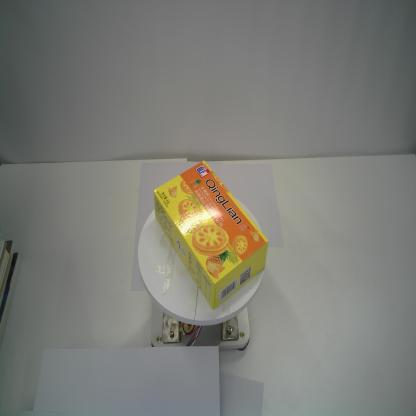Dessert: (153, 158, 270, 312)
